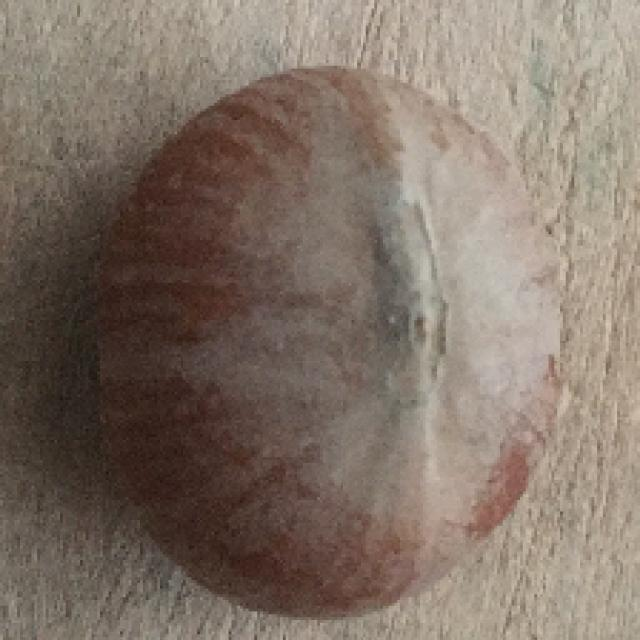qualityHazelnut: (92, 62, 565, 615)
